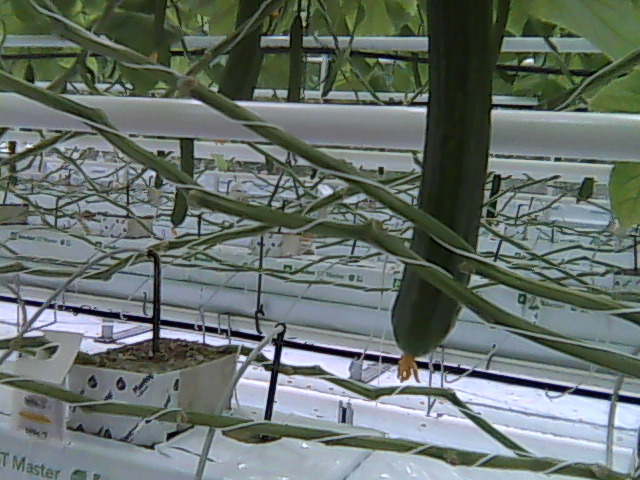concombre: (385, 1, 498, 387)
